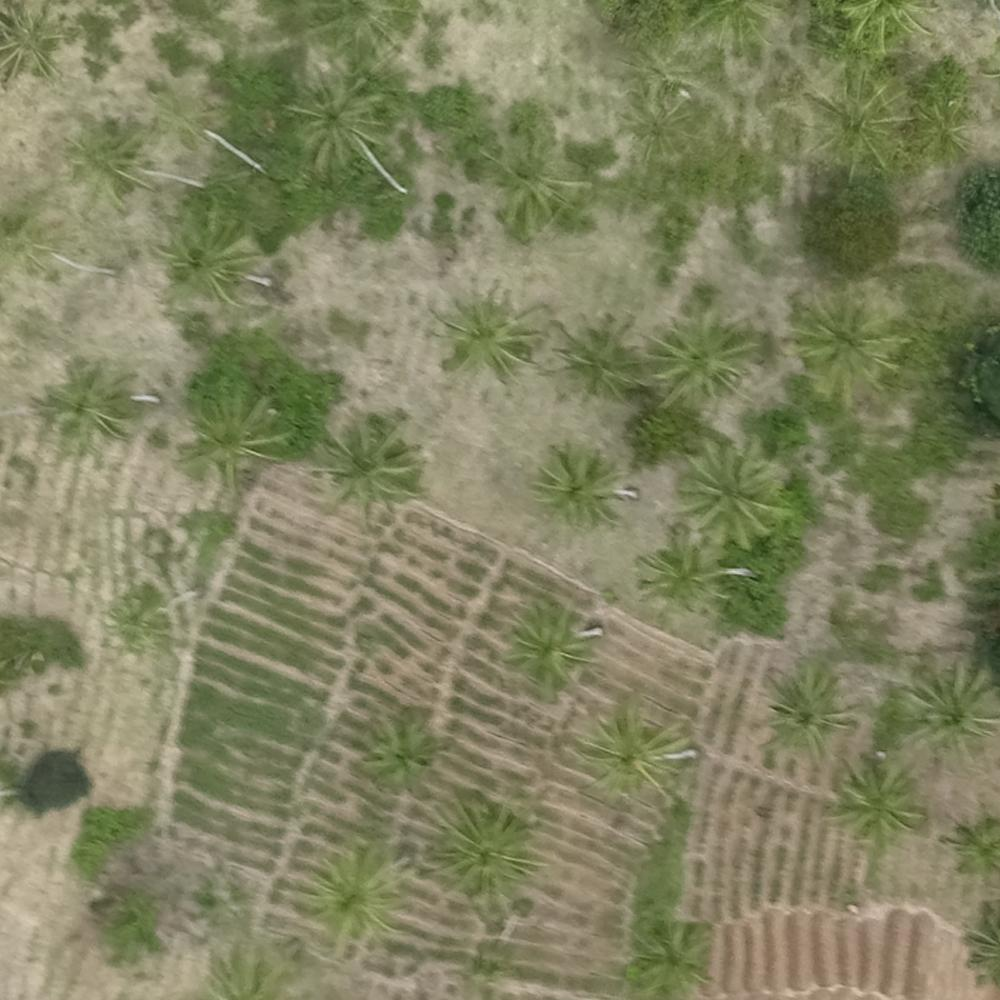Palm: (674, 441, 784, 547), (787, 294, 895, 401), (575, 705, 687, 804), (429, 792, 536, 891), (643, 314, 752, 407), (184, 389, 285, 489), (322, 411, 421, 508), (157, 212, 258, 307), (803, 68, 898, 168), (899, 662, 994, 761), (64, 117, 160, 212), (307, 848, 402, 943), (438, 288, 535, 378), (759, 665, 855, 754), (38, 359, 132, 448), (546, 312, 641, 400), (834, 756, 924, 848), (508, 606, 595, 697), (535, 445, 624, 529), (640, 531, 728, 611), (359, 714, 443, 788), (911, 90, 975, 168)
